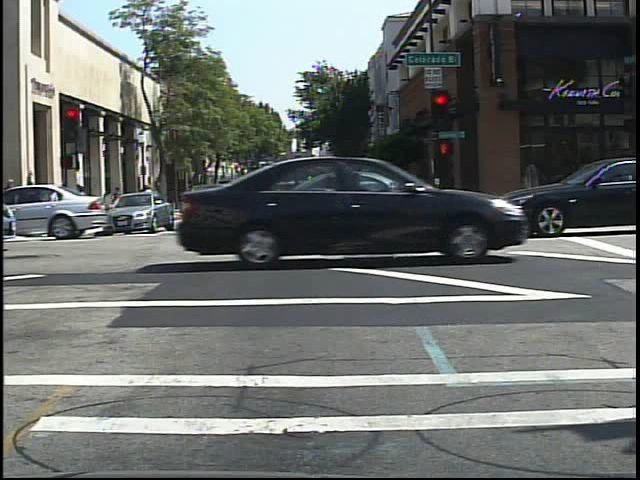person: (140, 181, 155, 215), (136, 181, 151, 212)
